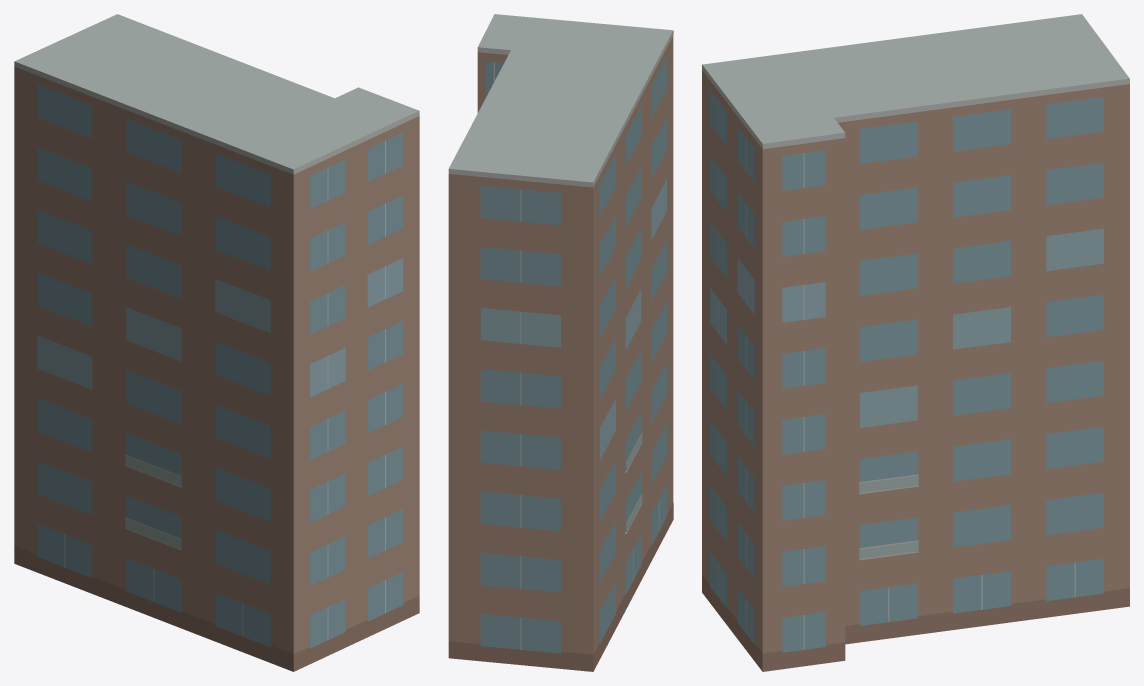
Rendered from survey-upis-32997948.glb.
3 renders of one model, left to right at view 1: azimuth 30°, elevation 25°; view 2: azimuth 150°, elevation 25°; view 3: azimuth 270°, elevation 25°, orthographic. The views are drawn at different scales.
Parts seen in each view (by area): view 1: survey-upis-32997948.tmp; view 2: survey-upis-32997948.tmp; view 3: survey-upis-32997948.tmp.
Part boxes in pixels (<box>): survey-upis-32997948.tmp: <box>14,14,419,671</box>; survey-upis-32997948.tmp: <box>448,14,673,671</box>; survey-upis-32997948.tmp: <box>702,14,1129,671</box>.
Size of the model in its own units: 12.62 by 23.9 by 17.56.
